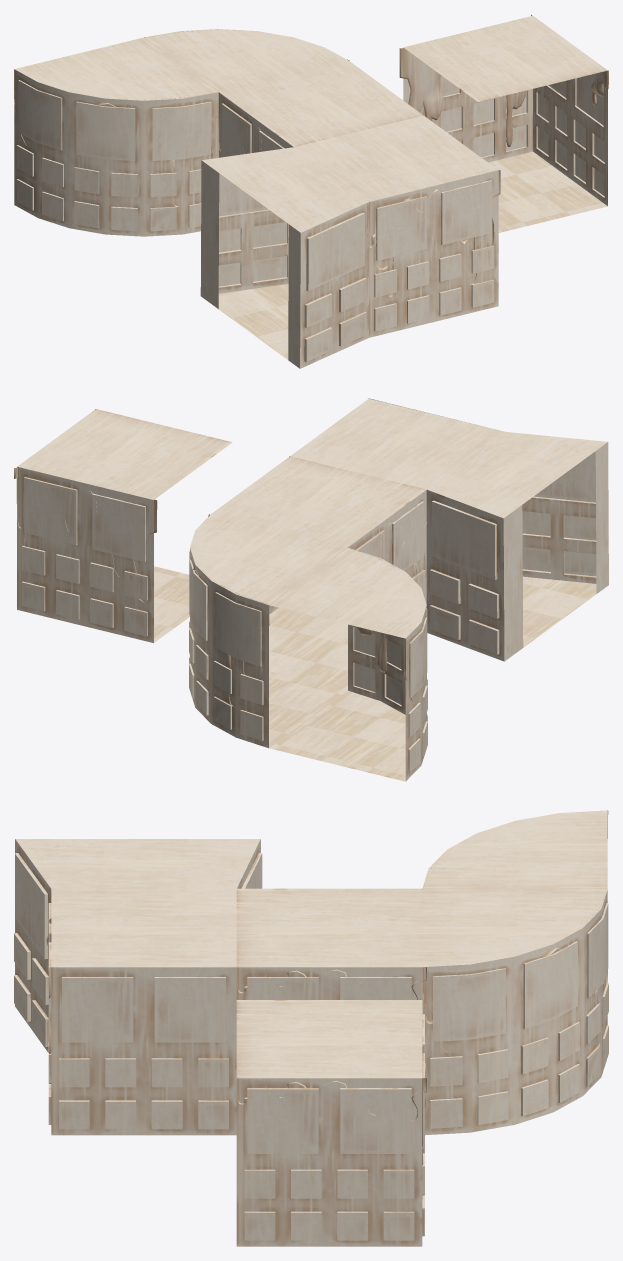
File: nagarouka.fbx
The picture shows the model from 3 angles, top to bottom: view 1: azimuth 30°, elevation 25°; view 2: azimuth 150°, elevation 25°; view 3: azimuth 270°, elevation 25°; orthographic projection. The views are drawn at different scales.
Parts seen in each view (by area): view 1: rouka, curve, curve_last, straight1, curve2; view 2: rouka, curve_last, curve2, curve, straight1; view 3: rouka, curve_last, curve2, straight1, curve.
Part boxes in pixels (x1,y1,x2,y2): rouka: (200, 115, 500, 368); curve: (14, 37, 219, 236); curve_last: (399, 14, 608, 232); straight1: (218, 59, 424, 157); curve2: (144, 29, 349, 92); rouka: (290, 398, 608, 661); curve_last: (14, 409, 232, 642); curve2: (189, 514, 347, 748); curve: (269, 547, 427, 781); straight1: (208, 456, 426, 690); rouka: (14, 839, 262, 1135); curve_last: (236, 998, 426, 1246); curve2: (422, 888, 608, 1135); straight1: (236, 888, 426, 999); curve: (421, 810, 608, 889).
Size of the model in its own units: 1791 by 521 by 1668.
Materials: 1 (1 with a texture image).
